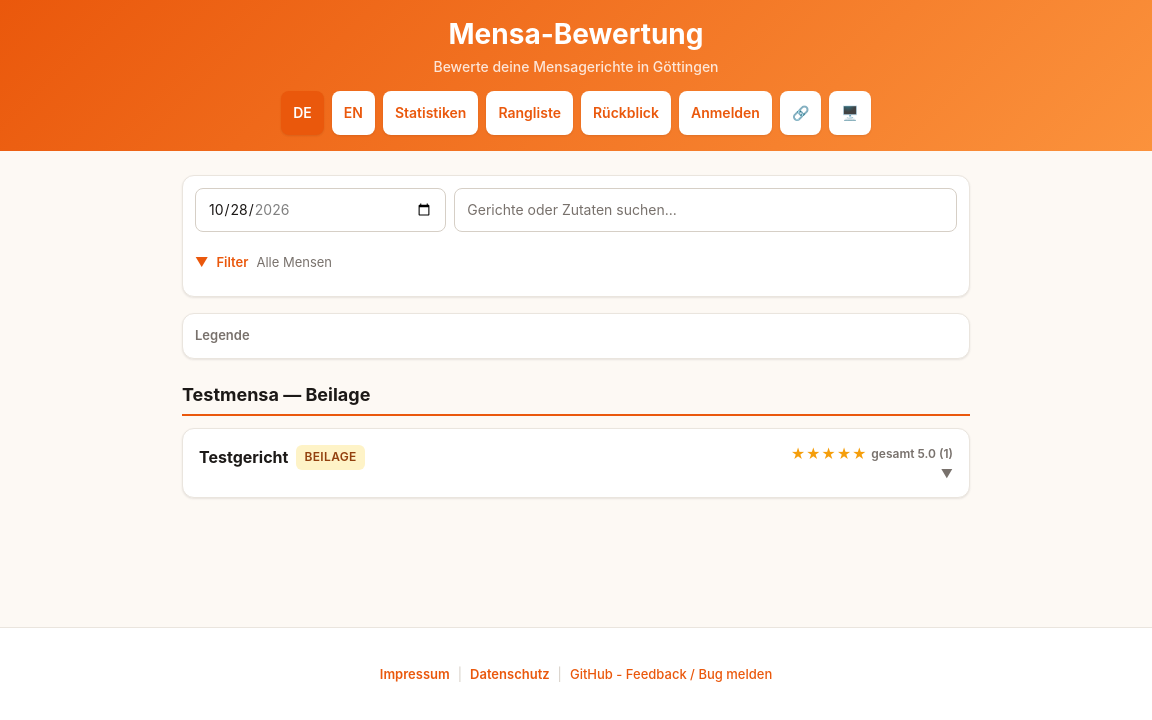
Test case: opening a dish's reviews with dated comments renders them instead of crashing
The width and height of the screenshot is (1152, 720).
Click the text "Testgericht": coordinates (244, 458) [199, 447, 288, 468]
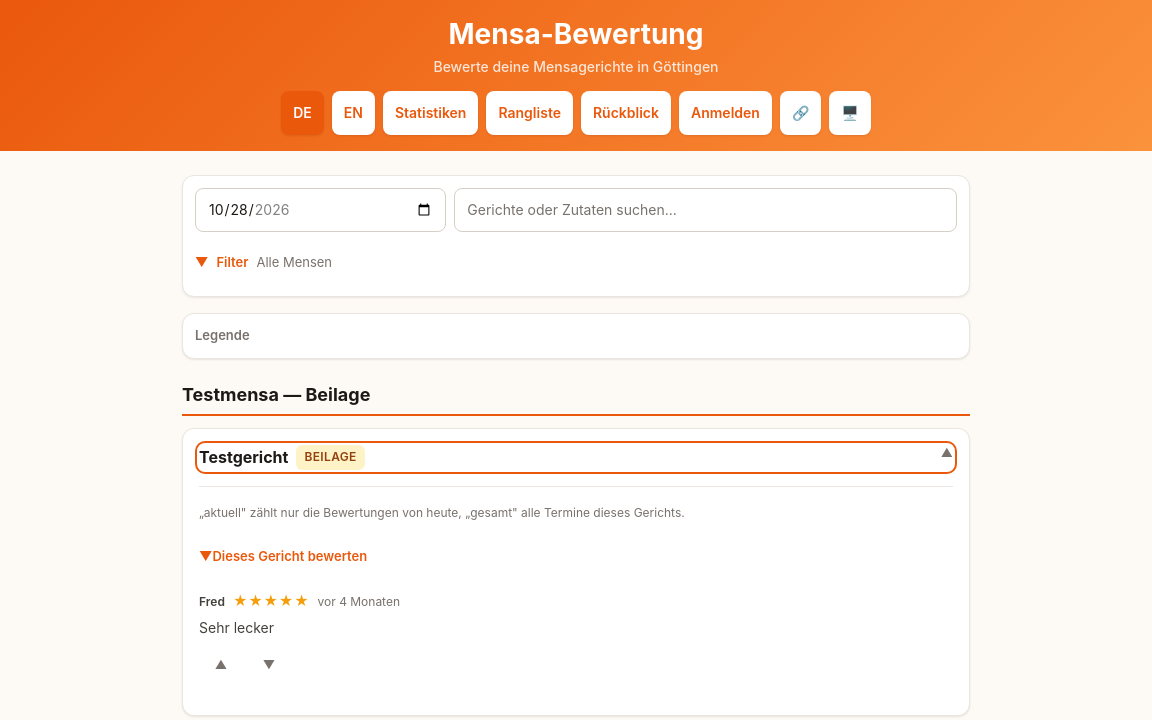
Check: the text "Sehr lecker" is shown, box [199, 618, 274, 636]
